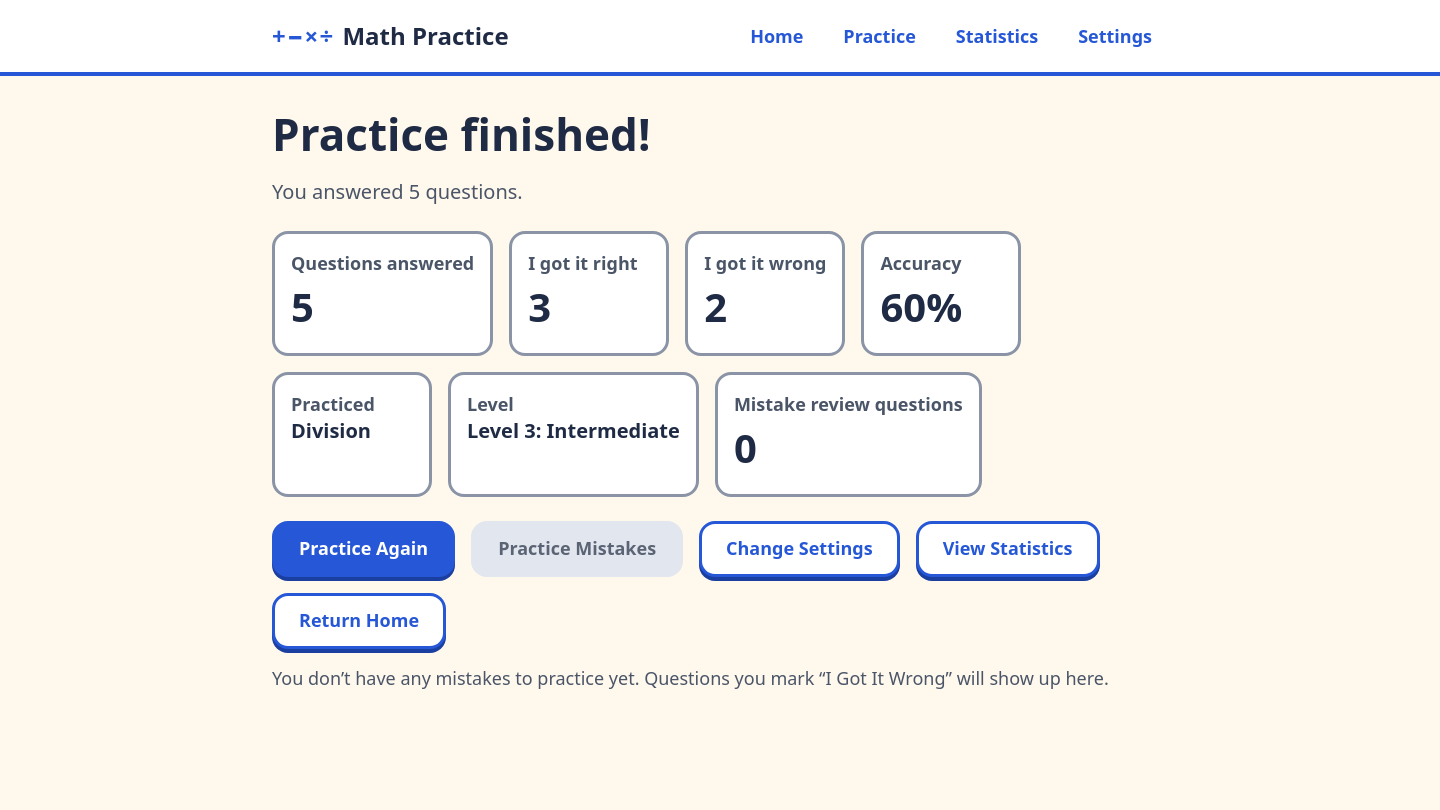
summary actions › Change Settings opens setup with the same choices selected
This screenshot has width=1440, height=810.
Click the button "Change Settings". click: [799, 549]
box: 699,521 -> 900,577
(page scrolled)
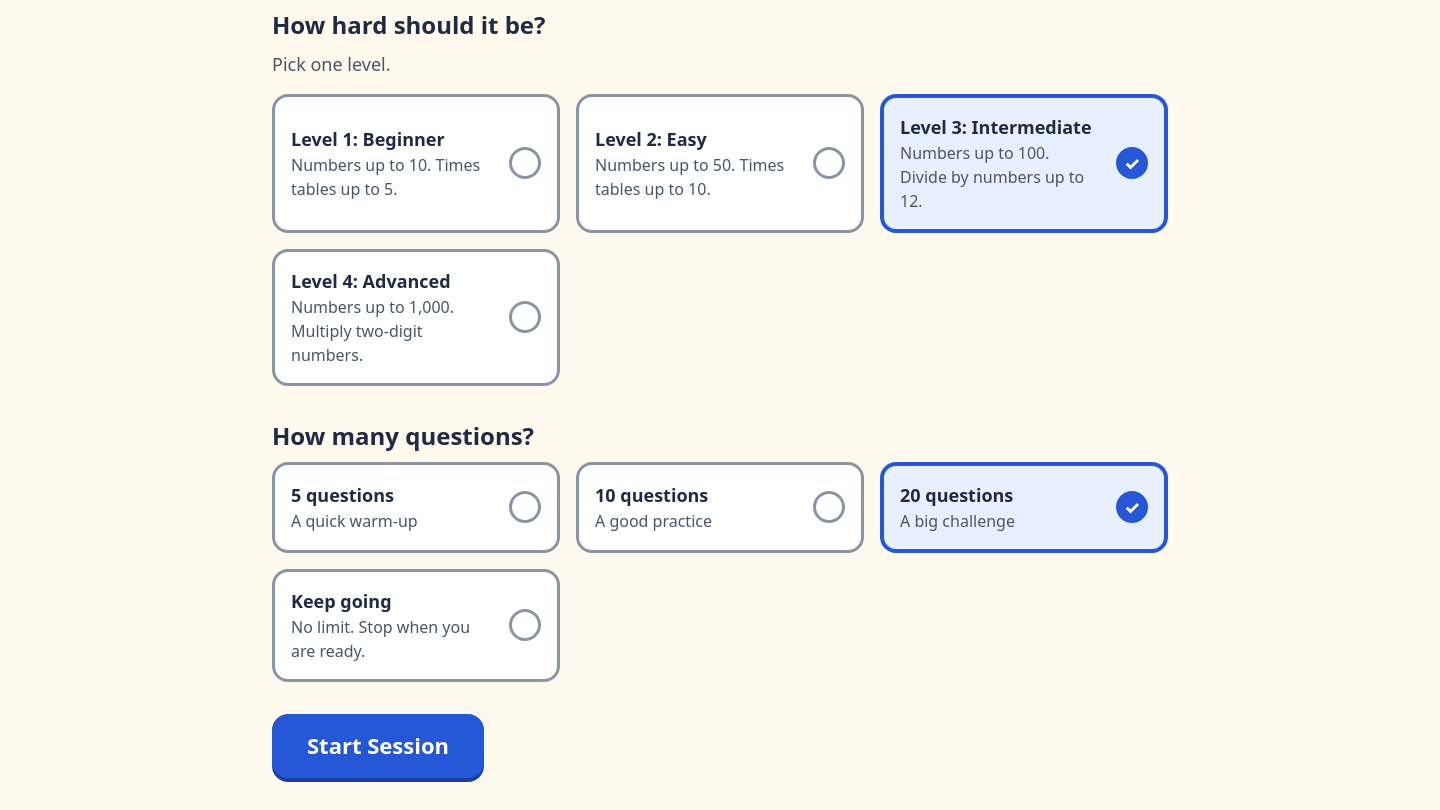
Check: the radio button labelled "Level 3" is checked, box 880,94 -> 1168,233
Check: the radio button labelled "20 questions A big challenge ✓" is checked, box 880,462 -> 1168,553
